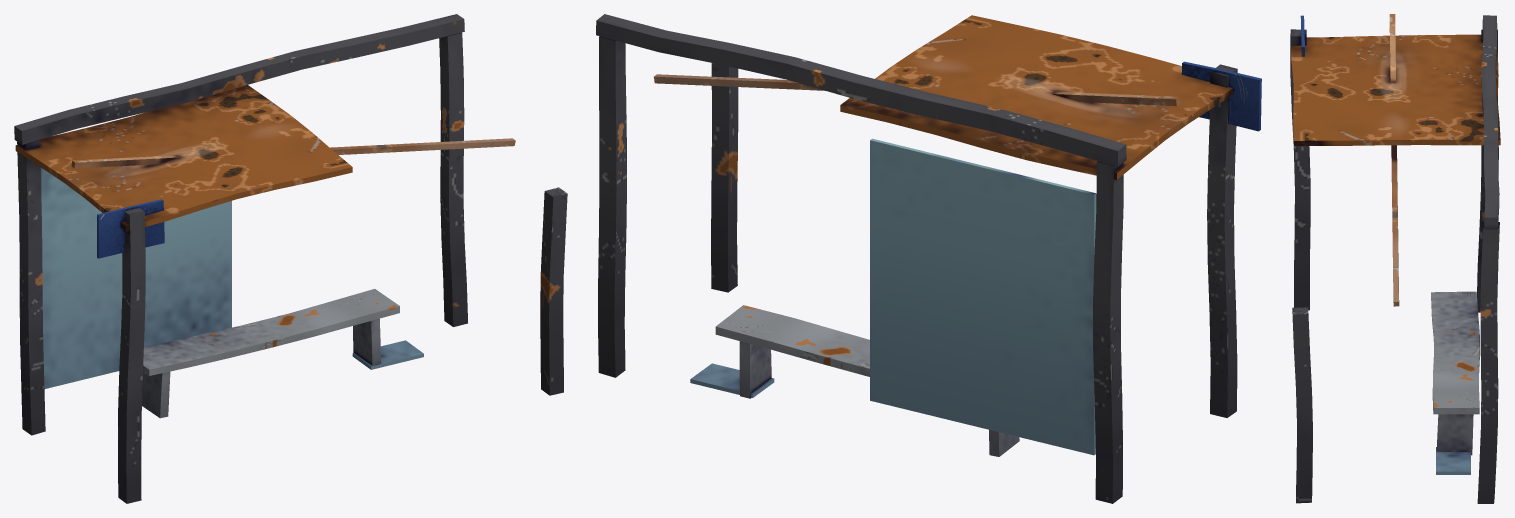
Rendered from BusStopWreck.glb.
3 renders of one model, left to right at view 1: azimuth 30°, elevation 25°; view 2: azimuth 150°, elevation 25°; view 3: azimuth 270°, elevation 25°, orthographic. The views are drawn at different scales.
Visible parts, largest first — view 1: Frame, Roof, Glass, Bench, Sign; view 2: Glass, Frame, Roof, Bench, Sign; view 3: Roof, Frame, Bench, Glass.
Part boxes in pixels (x1=…): Frame: x1=14, y1=14, x2=567, y2=503; Roof: x1=15, y1=85, x2=515, y2=231; Glass: x1=40, y1=167, x2=423, y2=388; Bench: x1=142, y1=289, x2=399, y2=418; Sign: x1=97, y1=199, x2=164, y2=258; Glass: x1=690, y1=138, x2=1096, y2=455; Frame: x1=596, y1=14, x2=1237, y2=503; Roof: x1=654, y1=15, x2=1232, y2=179; Bench: x1=715, y1=305, x2=1019, y2=456; Sign: x1=1181, y1=61, x2=1261, y2=131; Roof: x1=1291, y1=14, x2=1500, y2=306; Frame: x1=1290, y1=15, x2=1499, y2=503; Bench: x1=1431, y1=291, x2=1479, y2=455; Glass: x1=1436, y1=447, x2=1470, y2=474.
Size of the model in its own units: 4.4 by 2.79 by 1.81.
5 materials, 5 textured.
